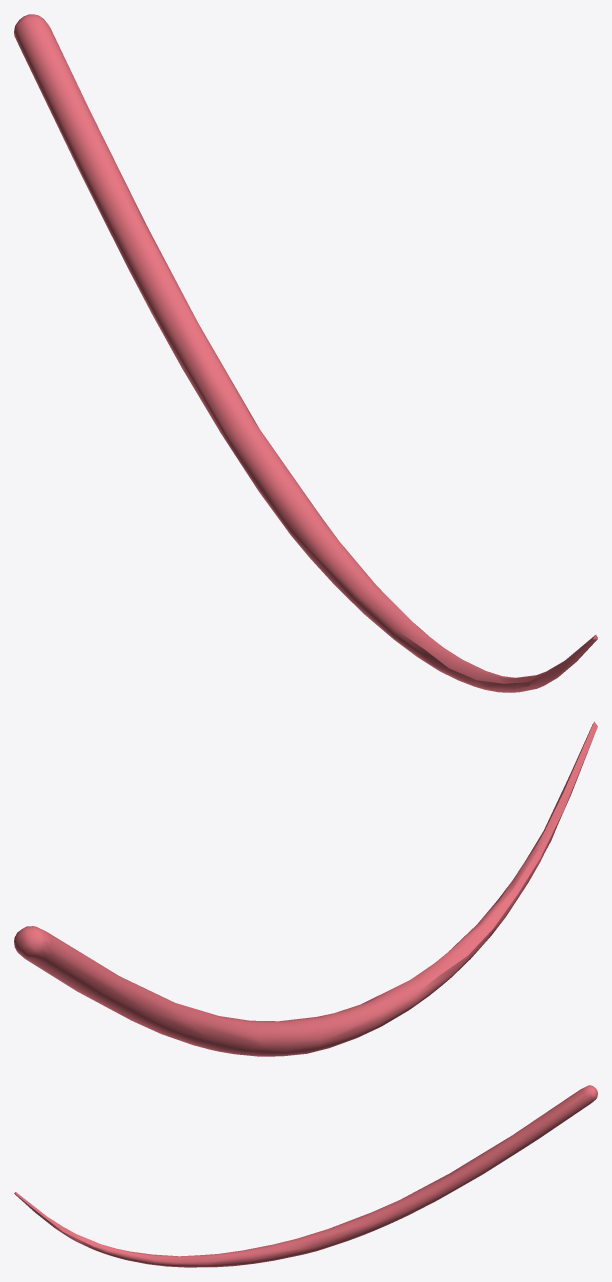
Rendered from fma51231_fj4717.glb.
The picture shows the model from 3 angles, top to bottom: view 1: azimuth 30°, elevation 25°; view 2: azimuth 150°, elevation 25°; view 3: azimuth 270°, elevation 25°; orthographic projection. The views are drawn at different scales.
Parts seen in each view (by area): view 1: FMA51231_FJ4717; view 2: FMA51231_FJ4717; view 3: FMA51231_FJ4717.
Part boxes in pixels (box(x1,y1,x2,y2)): FMA51231_FJ4717: box(14, 14, 597, 692); FMA51231_FJ4717: box(14, 721, 597, 1056); FMA51231_FJ4717: box(14, 1085, 597, 1267).
Size of the model in its own units: 0.00179 by 0.0189 by 0.0552.
